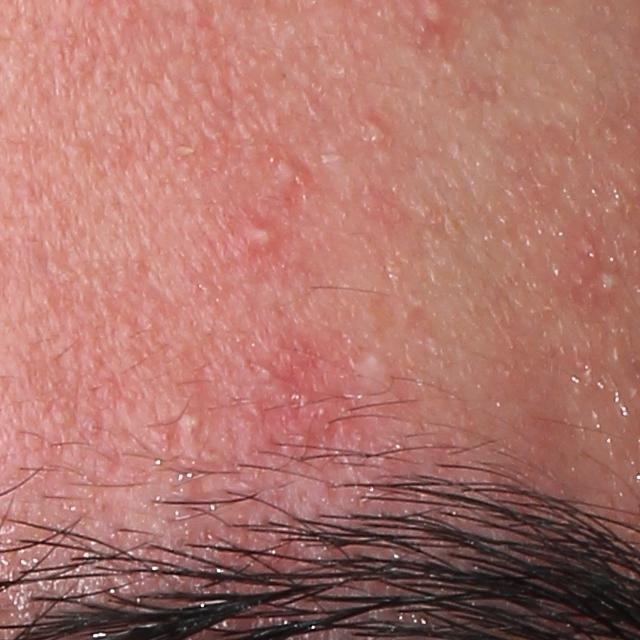comedo: (175, 413, 203, 436)
pustule: (234, 214, 295, 259)
